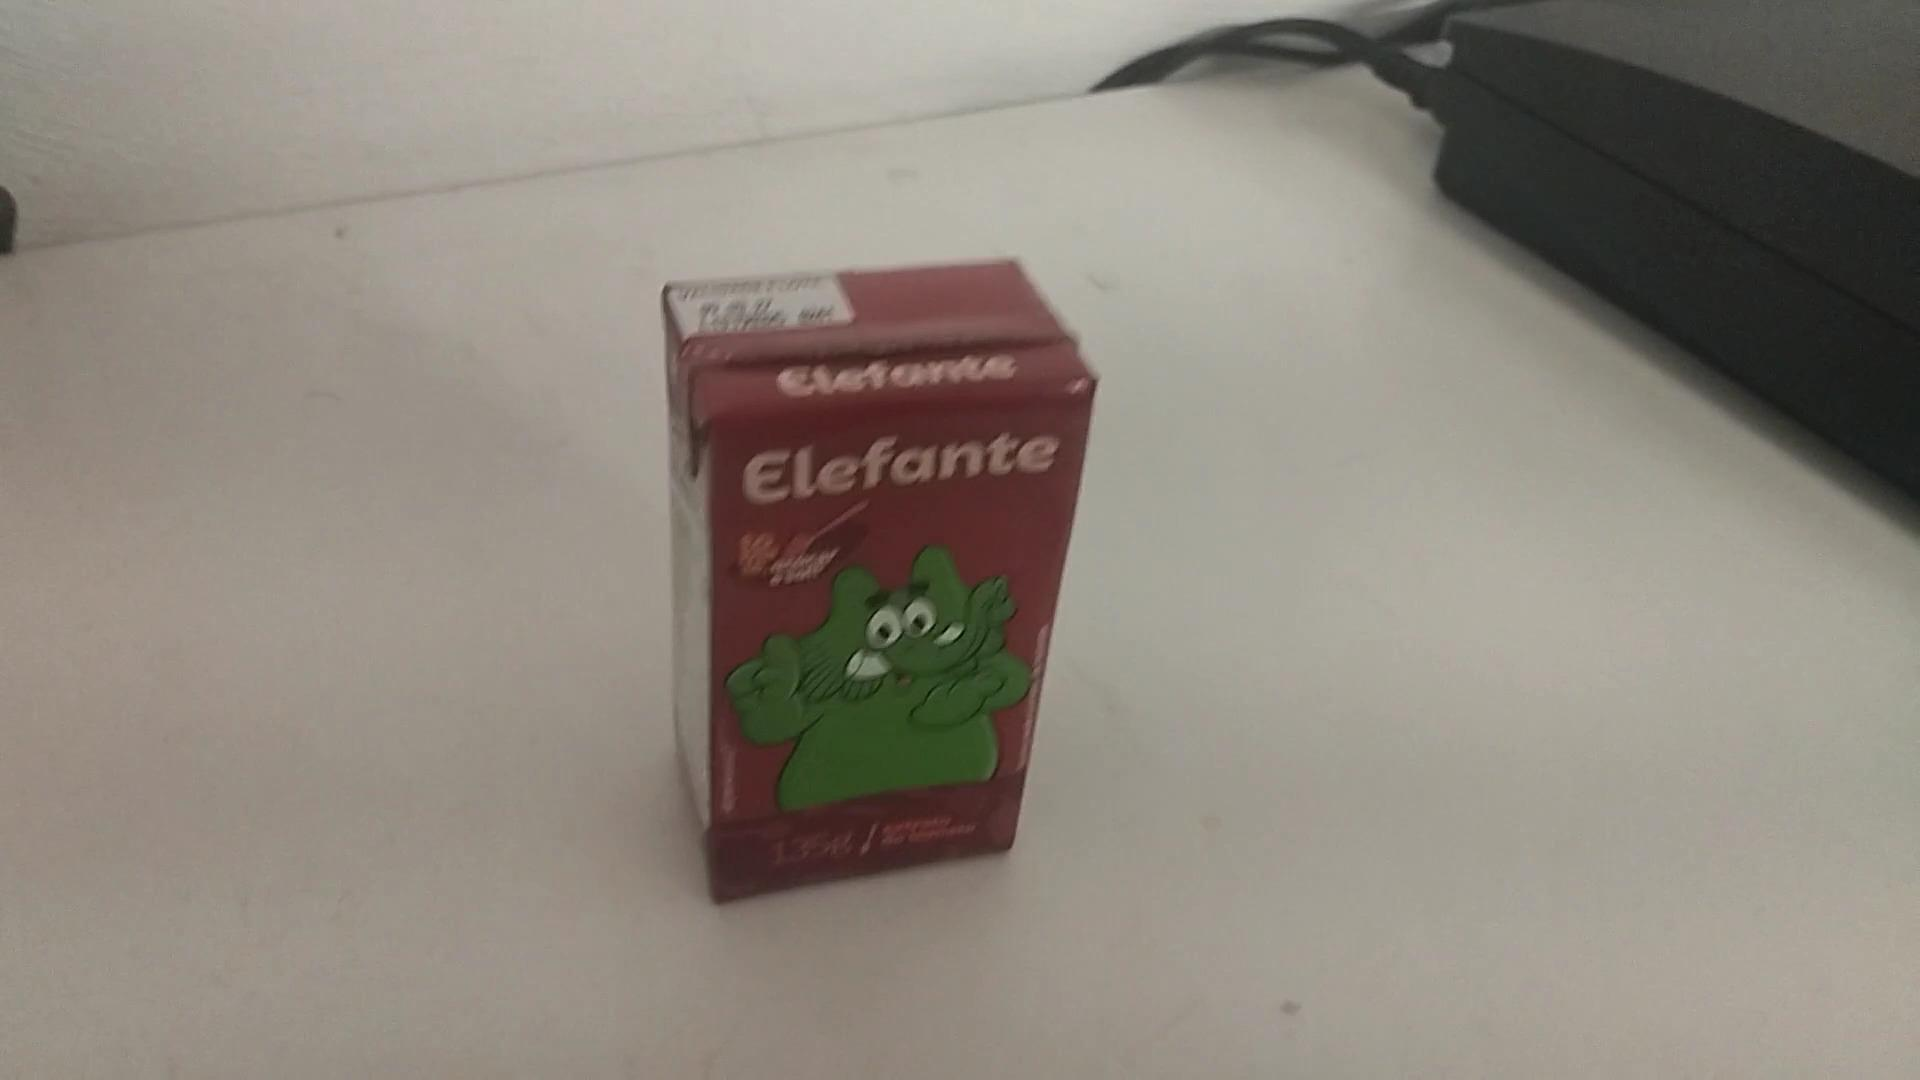tomate: (655, 237, 1106, 891)
